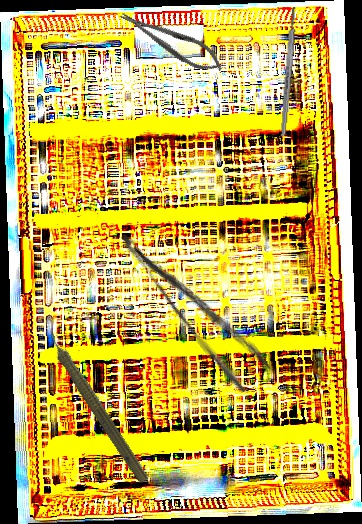Dressing Forceps: (116, 212, 274, 396)
Handpiece: (35, 317, 156, 487)
Needle Holder: (115, 1, 229, 81)
Scalpel Handle: (279, 6, 298, 137)
